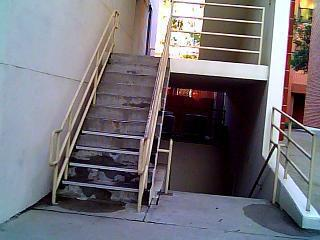Escaleras: (46, 54, 168, 202), (167, 180, 272, 205)
